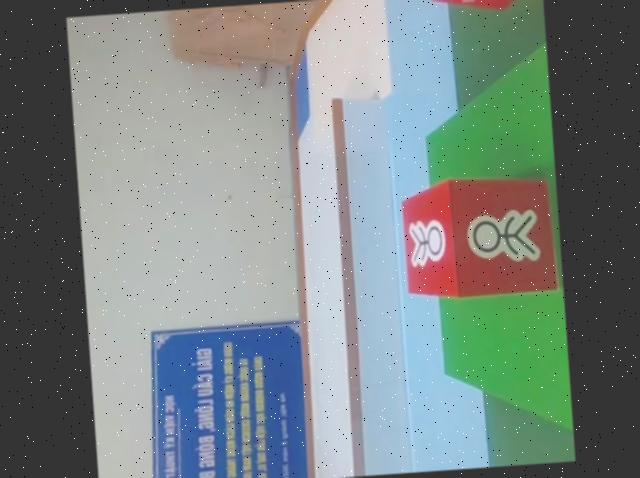R1: (423, 0, 543, 17)
R2 Real: (403, 171, 561, 303)
